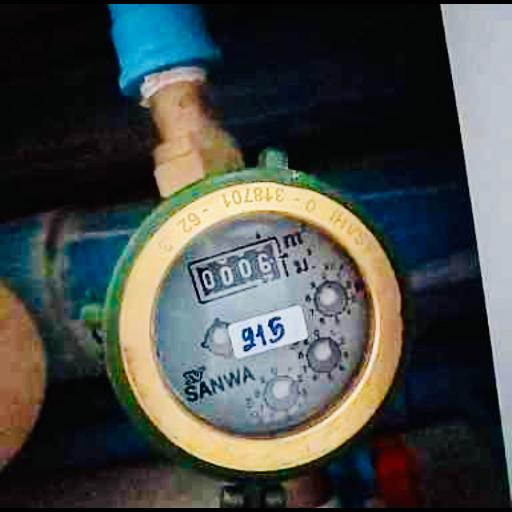0: (232, 250, 261, 285), (196, 262, 223, 297), (214, 257, 241, 292)
6: (251, 244, 281, 285)
border_water_meter_number: (186, 235, 290, 306)
